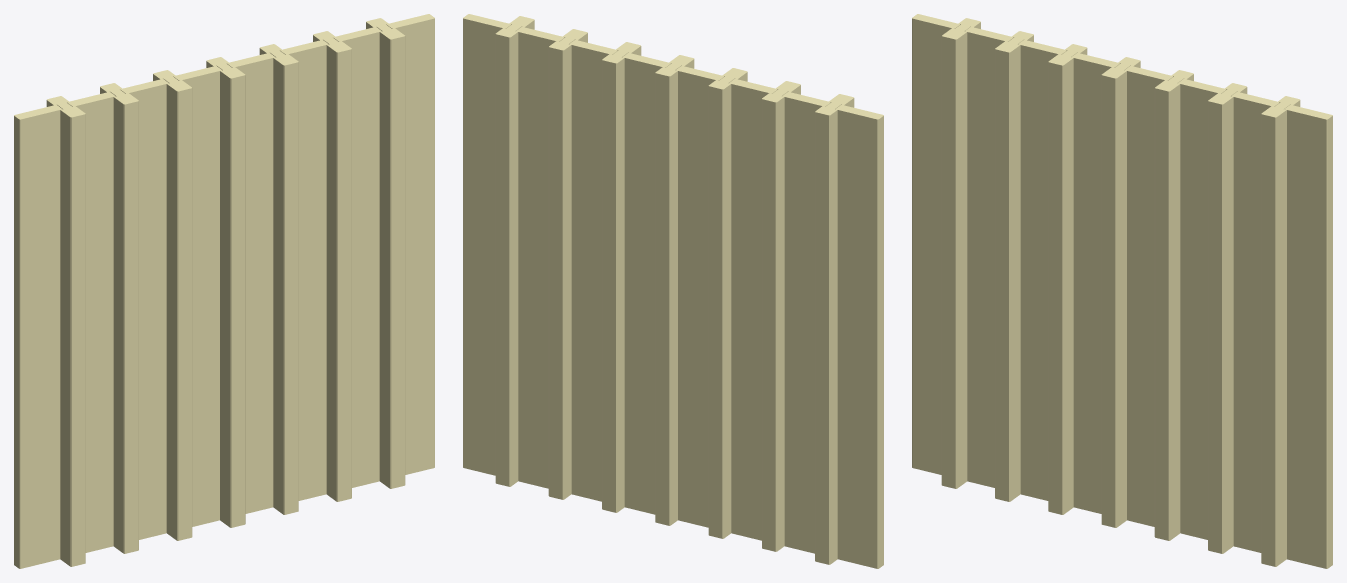
Rendered from FVG113.glb.
The picture shows the model from 3 angles, left to right: view 1: azimuth 30°, elevation 25°; view 2: azimuth 150°, elevation 25°; view 3: azimuth 330°, elevation 25°; orthographic projection.
Visible parts, largest first — view 1: IfcCovering/Eingeschobene Schalung.008, IfcCovering/Eingeschobene Schalung, IfcCovering/Eingeschobene Schalung.004, IfcCovering/Eingeschobene Schalung.007, IfcCovering/Eingeschobene Schalung.003, IfcCovering/Eingeschobene Schalung.002, IfcCovering/Eingeschobene Schalung.006, IfcCovering/Eingeschobene Schalung.005, IfcCovering/Eingeschobene Schalung.001, IfcCovering/Eingeschobene Schalung.012, IfcCovering/Eingeschobene Schalung.010, IfcCovering/Eingeschobene Schalung.011 (+3 smaller); view 2: IfcCovering/Eingeschobene Schalung.008, IfcCovering/Eingeschobene Schalung, IfcCovering/Eingeschobene Schalung.004, IfcCovering/Eingeschobene Schalung.003, IfcCovering/Eingeschobene Schalung.006, IfcCovering/Eingeschobene Schalung.007, IfcCovering/Eingeschobene Schalung.002, IfcCovering/Eingeschobene Schalung.005, IfcCovering/Eingeschobene Schalung.001, IfcCovering/Eingeschobene Schalung.012, IfcCovering/Eingeschobene Schalung.009, IfcCovering/Eingeschobene Schalung.014 (+3 smaller); view 3: IfcCovering/Eingeschobene Schalung, IfcCovering/Eingeschobene Schalung.008, IfcCovering/Eingeschobene Schalung.005, IfcCovering/Eingeschobene Schalung.002, IfcCovering/Eingeschobene Schalung.006, IfcCovering/Eingeschobene Schalung.007, IfcCovering/Eingeschobene Schalung.003, IfcCovering/Eingeschobene Schalung.004, IfcCovering/Eingeschobene Schalung.014, IfcCovering/Eingeschobene Schalung.010, IfcCovering/Eingeschobene Schalung.009, IfcCovering/Eingeschobene Schalung.012 (+3 smaller).
Part boxes in pixels (left/top/right/bottom): IfcCovering/Eingeschobene Schalung.008: left=14, top=105, right=61, bottom=568; IfcCovering/Eingeschobene Schalung: left=387, top=14, right=434, bottom=474; IfcCovering/Eingeschobene Schalung.004: left=227, top=53, right=274, bottom=513; IfcCovering/Eingeschobene Schalung.007: left=67, top=92, right=115, bottom=552; IfcCovering/Eingeschobene Schalung.003: left=280, top=40, right=328, bottom=500; IfcCovering/Eingeschobene Schalung.002: left=333, top=27, right=381, bottom=487; IfcCovering/Eingeschobene Schalung.006: left=120, top=79, right=168, bottom=539; IfcCovering/Eingeschobene Schalung.005: left=174, top=66, right=221, bottom=526; IfcCovering/Eingeschobene Schalung.001: left=366, top=18, right=405, bottom=488; IfcCovering/Eingeschobene Schalung.012: left=153, top=70, right=192, bottom=540; IfcCovering/Eingeschobene Schalung.010: left=259, top=44, right=298, bottom=514; IfcCovering/Eingeschobene Schalung.011: left=206, top=57, right=245, bottom=527; IfcCovering/Eingeschobene Schalung.008: left=836, top=105, right=883, bottom=568; IfcCovering/Eingeschobene Schalung: left=463, top=14, right=511, bottom=475; IfcCovering/Eingeschobene Schalung.004: left=623, top=53, right=670, bottom=514; IfcCovering/Eingeschobene Schalung.003: left=569, top=40, right=617, bottom=501; IfcCovering/Eingeschobene Schalung.006: left=729, top=79, right=777, bottom=540; IfcCovering/Eingeschobene Schalung.007: left=783, top=92, right=830, bottom=553; IfcCovering/Eingeschobene Schalung.002: left=516, top=27, right=564, bottom=488; IfcCovering/Eingeschobene Schalung.005: left=676, top=66, right=724, bottom=527; IfcCovering/Eingeschobene Schalung.001: left=495, top=16, right=534, bottom=486; IfcCovering/Eingeschobene Schalung.012: left=708, top=68, right=747, bottom=538; IfcCovering/Eingeschobene Schalung.009: left=548, top=29, right=587, bottom=499; IfcCovering/Eingeschobene Schalung.014: left=815, top=94, right=854, bottom=564; IfcCovering/Eingeschobene Schalung: left=1285, top=105, right=1332, bottom=568; IfcCovering/Eingeschobene Schalung.008: left=912, top=14, right=959, bottom=474; IfcCovering/Eingeschobene Schalung.005: left=1072, top=53, right=1119, bottom=513; IfcCovering/Eingeschobene Schalung.002: left=1231, top=92, right=1279, bottom=552; IfcCovering/Eingeschobene Schalung.006: left=1018, top=40, right=1066, bottom=500; IfcCovering/Eingeschobene Schalung.007: left=965, top=27, right=1013, bottom=487; IfcCovering/Eingeschobene Schalung.003: left=1178, top=79, right=1226, bottom=539; IfcCovering/Eingeschobene Schalung.004: left=1125, top=66, right=1172, bottom=526; IfcCovering/Eingeschobene Schalung.014: left=941, top=18, right=980, bottom=488; IfcCovering/Eingeschobene Schalung.010: left=1154, top=70, right=1193, bottom=540; IfcCovering/Eingeschobene Schalung.009: left=1208, top=83, right=1247, bottom=553; IfcCovering/Eingeschobene Schalung.012: left=1048, top=44, right=1087, bottom=514.
Size of the model in its own units: 0.9683 by 1 by 0.1003.
